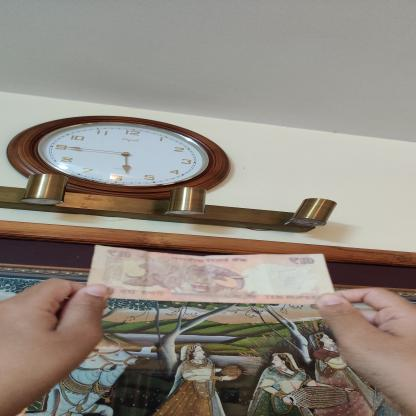Old10Back: (84, 245, 341, 304)
